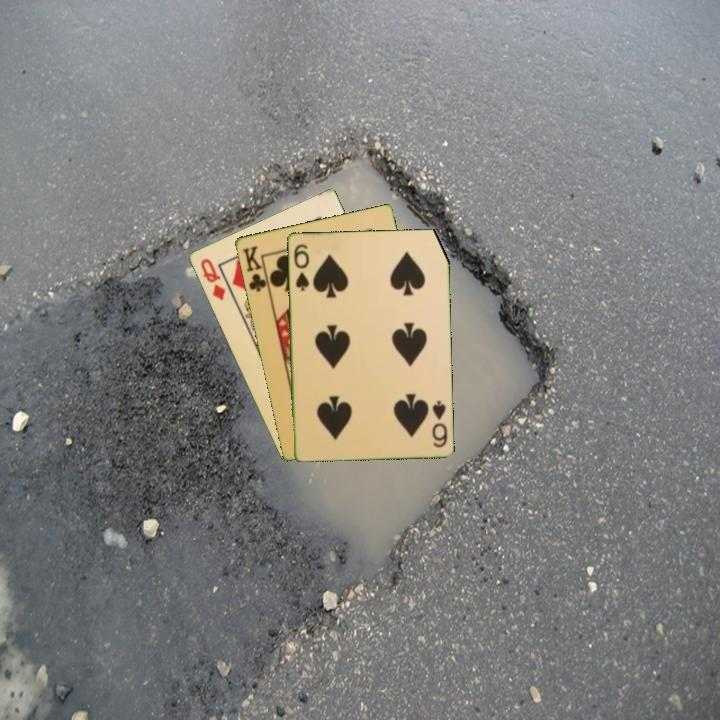6s: (290, 240, 312, 293), (428, 397, 450, 450)
Kc: (239, 242, 272, 295)
Qd: (196, 254, 228, 303)
